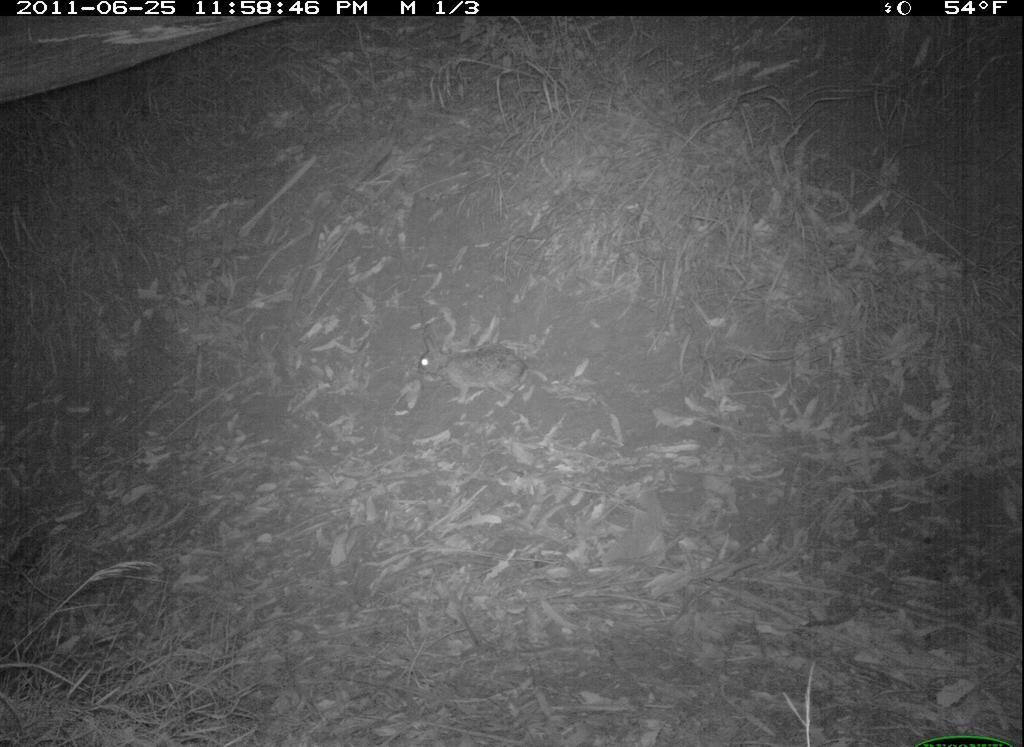rabbit: (408, 322, 541, 417)
